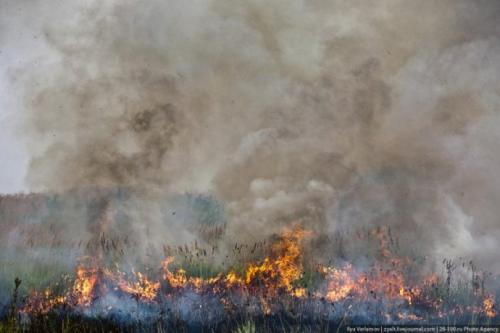fire: (69, 264, 234, 296), (235, 237, 309, 292)
smoke: (12, 18, 497, 232)
